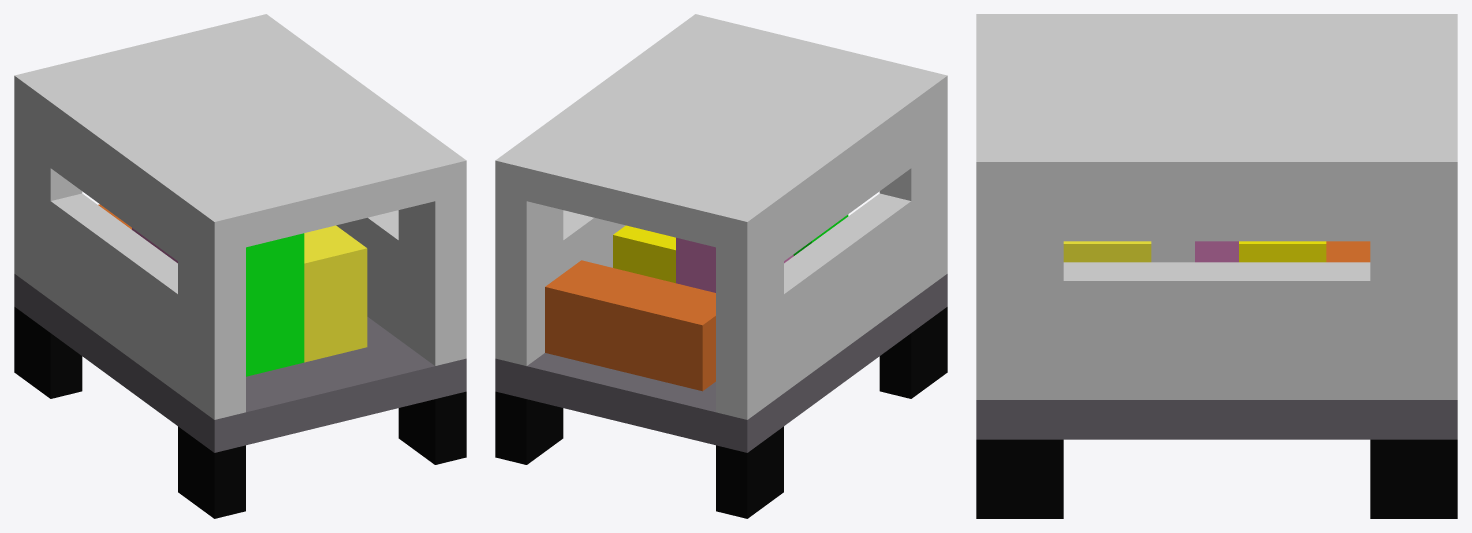
File: cart.gltf
3 views of the same model, side by side, from view 1: azimuth 30°, elevation 25°; view 2: azimuth 150°, elevation 25°; view 3: azimuth 270°, elevation 25° (orthographic). The views are drawn at different scales.
Visible parts, largest first — view 1: Metal, Glass; view 2: Metal, Glass; view 3: Metal, Glass.
Boxes of the visible parts, <box> form: Metal: <box>14,14,466,518</box>; Glass: <box>98,204,367,376</box>; Metal: <box>495,14,947,518</box>; Glass: <box>545,214,848,391</box>; Metal: <box>976,14,1457,518</box>; Glass: <box>1063,241,1370,262</box>.
Size of the model in its own units: 8 by 9 by 11.
